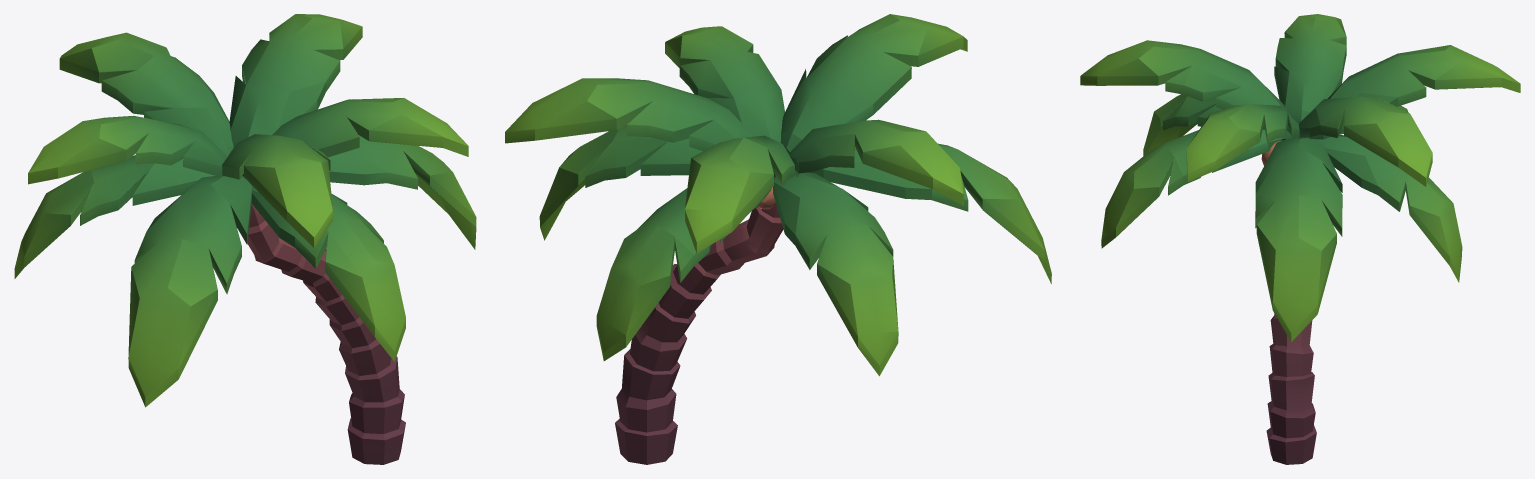
The model's file is tree_beach1.fbx.
The picture shows the model from 3 angles, left to right: view 1: azimuth 30°, elevation 25°; view 2: azimuth 150°, elevation 25°; view 3: azimuth 270°, elevation 25°; orthographic projection. The views are drawn at different scales.
Visible parts, largest first — view 1: model_0.005; view 2: model_0.005; view 3: model_0.005.
Boxes of the visible parts, box(x1,y1,x2,y2) form: model_0.005: box(14, 14, 476, 464); model_0.005: box(505, 14, 1051, 464); model_0.005: box(1080, 14, 1520, 464).
Size of the model in its own units: 3215 by 2871 by 3358.
